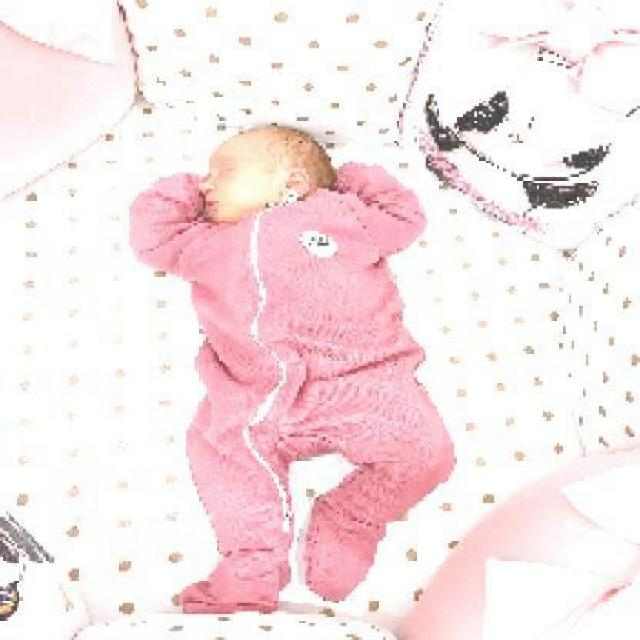child: (127, 122, 459, 615)
